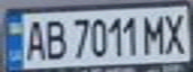0: (90, 15, 109, 58)
1: (121, 14, 142, 56), (106, 14, 124, 57)
7: (66, 15, 90, 60)
A: (21, 17, 48, 62)
B: (42, 16, 69, 61)
M: (139, 11, 169, 55)
X: (160, 9, 193, 55)
